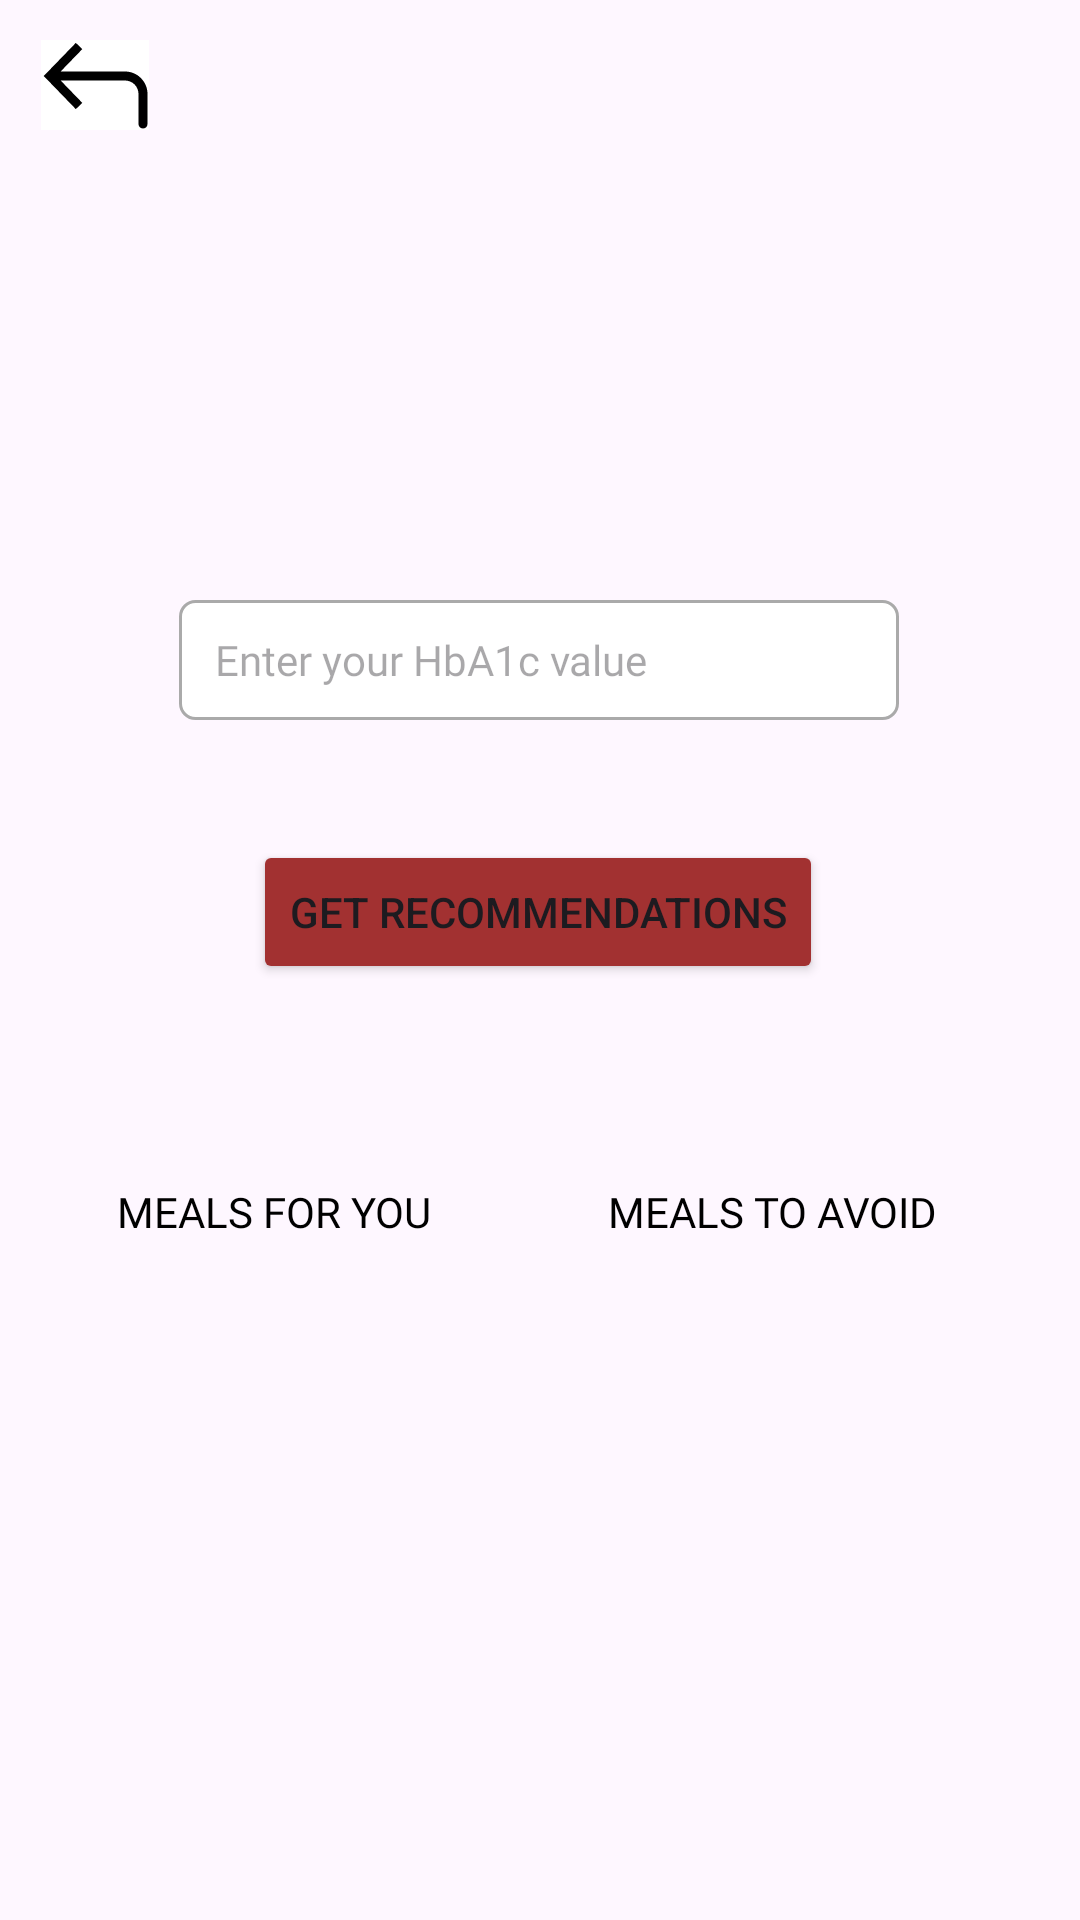

Locate icon controls on the screen. Image size 1080w x 1920h, boxes as bbox(x1, y1, x2, y2).
back: bbox(44, 43, 148, 129)
